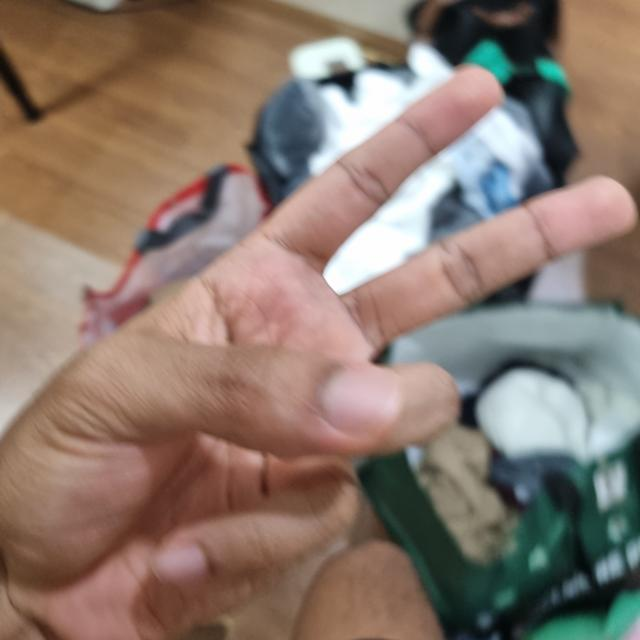Scissors: (3, 78, 636, 634)
